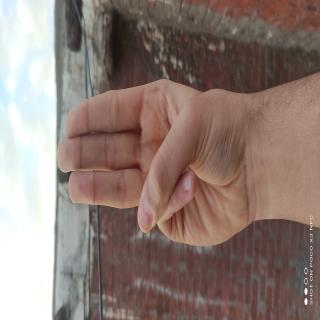THA: (25, 116, 114, 320)
